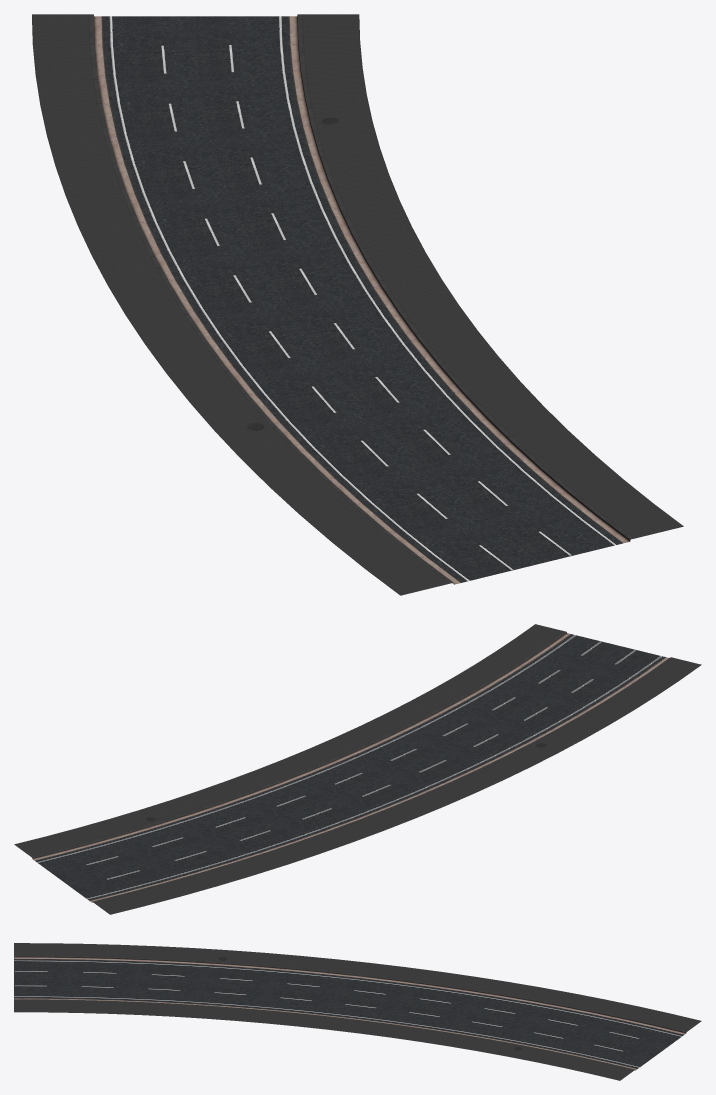
Rendered from or_city_road_3ways_30right.fbx.
The picture shows the model from 3 angles, top to bottom: view 1: azimuth 30°, elevation 25°; view 2: azimuth 150°, elevation 25°; view 3: azimuth 270°, elevation 25°; orthographic projection. The views are drawn at different scales.
Visible parts, largest first — view 1: obj0; view 2: obj0; view 3: obj0.
Part boxes in pixels (<box>): obj0: <box>32,14,683,595</box>; obj0: <box>14,624,701,914</box>; obj0: <box>14,943,701,1080</box>.
Size of the model in its own units: 73.36 by 0.254 by 155.
